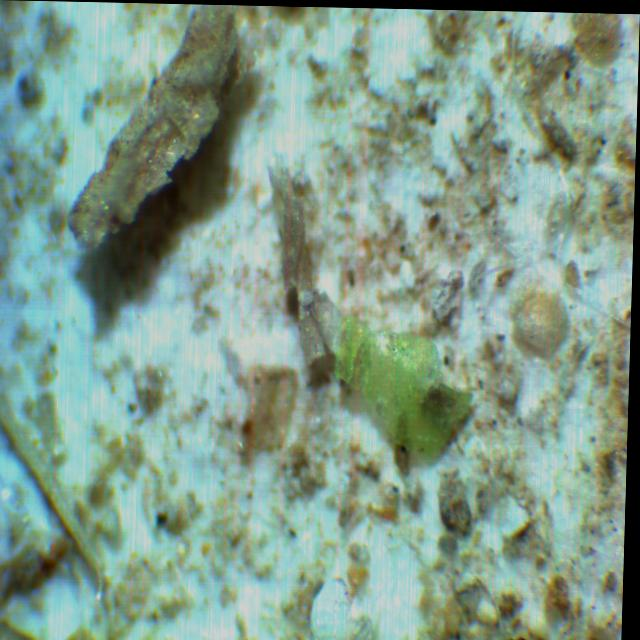microplastic: (334, 313, 477, 466)
